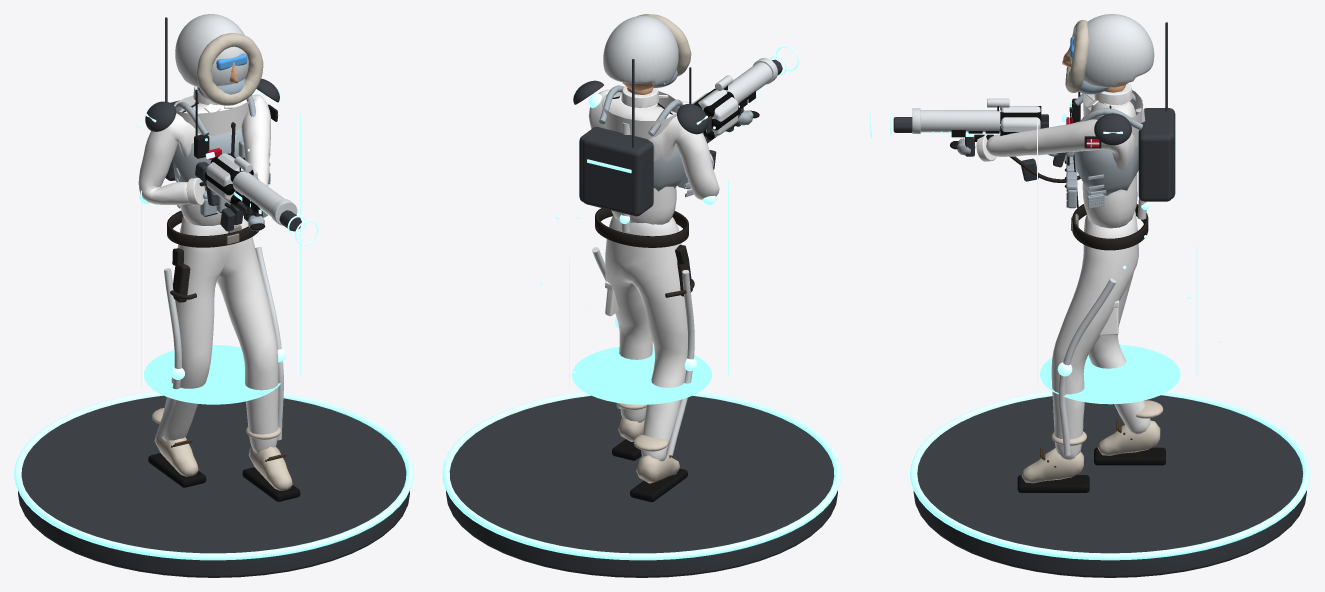
The model's file is kaster_arktis.glb.
3 renders of one model, left to right at view 1: azimuth 30°, elevation 25°; view 2: azimuth 150°, elevation 25°; view 3: azimuth 270°, elevation 25°, orthographic.
Visible parts, largest first — view 1: fod_net, menneske_net, hoved_net, op1_net, op4.001_net, vaaben_net, op4.002_net, op3.001_net, op3_net; view 2: fod_net, menneske_net, op4.002_net, hoved_net, op4.001_net, op1_net, vaaben_net, op3.001_net, ned4_net; view 3: fod_net, menneske_net, hoved_net, op4.001_net, op1_net, vaaben_net, ned4_net, op4.002_net, op3.001_net.
Part boxes in pixels (bbox=[...]): fod_net: bbox=[14, 391, 413, 577]; menneske_net: bbox=[138, 86, 300, 501]; hoved_net: bbox=[175, 14, 263, 105]; op1_net: bbox=[167, 89, 270, 302]; op4.001_net: bbox=[137, 113, 300, 404]; vaaben_net: bbox=[195, 153, 297, 225]; op4.002_net: bbox=[139, 91, 285, 440]; op3.001_net: bbox=[145, 17, 279, 208]; op3_net: bbox=[220, 208, 301, 231]; fod_net: bbox=[442, 391, 841, 577]; menneske_net: bbox=[588, 86, 759, 502]; op4.002_net: bbox=[582, 93, 716, 455]; hoved_net: bbox=[603, 14, 691, 90]; op4.001_net: bbox=[540, 126, 728, 404]; op1_net: bbox=[595, 67, 694, 297]; vaaben_net: bbox=[692, 58, 777, 143]; op3.001_net: bbox=[573, 59, 707, 197]; ned4_net: bbox=[579, 127, 648, 201]; fod_net: bbox=[910, 391, 1310, 577]; menneske_net: bbox=[950, 83, 1165, 492]; hoved_net: bbox=[1062, 14, 1154, 94]; op4.001_net: bbox=[1037, 123, 1221, 404]; op1_net: bbox=[1064, 91, 1148, 250]; vaaben_net: bbox=[912, 98, 1065, 167]; ned4_net: bbox=[1088, 110, 1172, 205]; op4.002_net: bbox=[1057, 108, 1176, 455]; op3.001_net: bbox=[1094, 22, 1167, 145].
Size of the model in its own units: 1.94 by 2.56 by 2.13.
